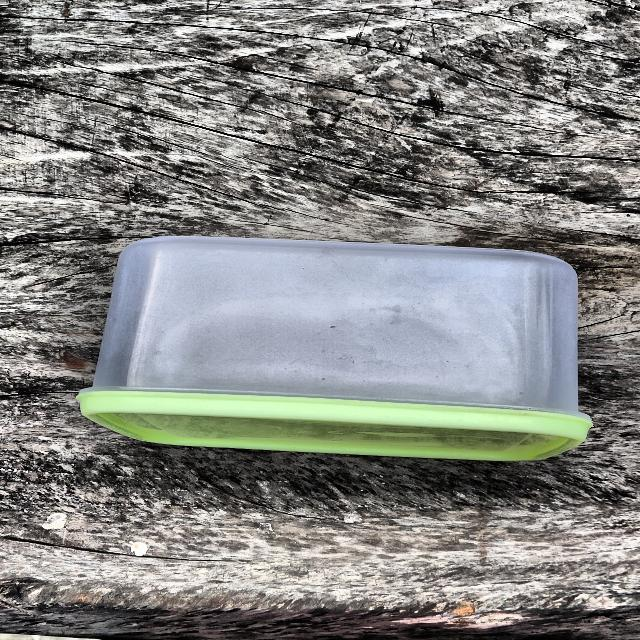plastic container: (54, 217, 605, 470)
